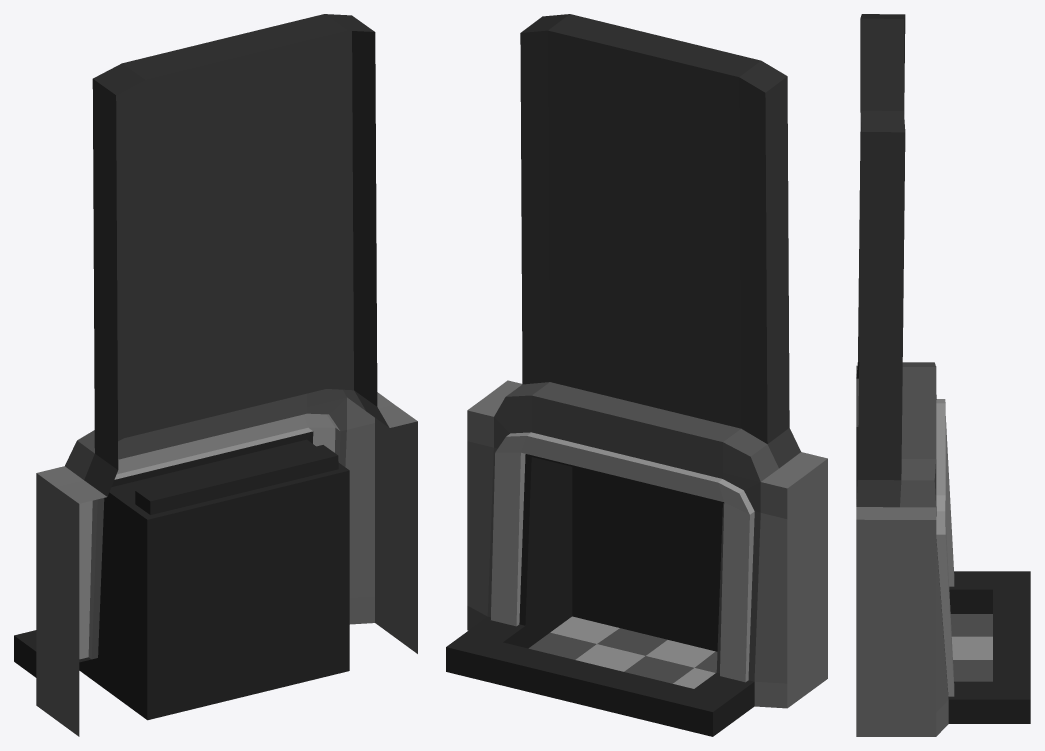
Rendered from FireplaceModel.fbx.
The picture shows the model from 3 angles, left to right: view 1: azimuth 30°, elevation 25°; view 2: azimuth 150°, elevation 25°; view 3: azimuth 270°, elevation 25°; orthographic projection. The views are drawn at different scales.
Visible parts, largest first — view 1: FireplaceModel; view 2: FireplaceModel; view 3: FireplaceModel.
Boxes of the visible parts, bbox=[...] form: FireplaceModel: bbox=[14, 14, 417, 736]; FireplaceModel: bbox=[446, 14, 827, 736]; FireplaceModel: bbox=[856, 14, 1030, 736].
Bounding box in the file's own units: 326 × 588 × 156.
